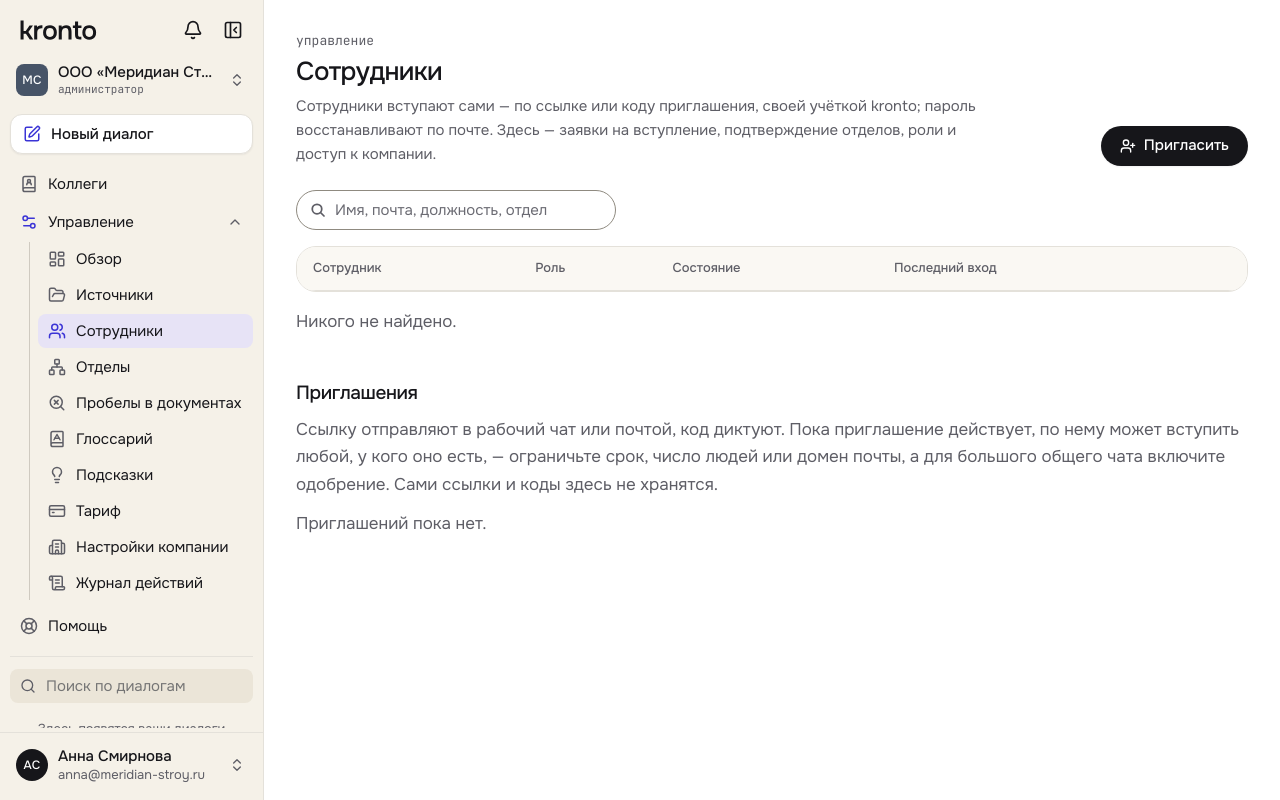
it: боковая панель › у администратора разделы управления раскрыты в панели, второй панели нет
Check: the heading "Сотрудники" is shown, box [296,55,442,88]
Check: the number of navigation bars is 1, box [10,166,253,644]
Step 1. Click the button named "Свернуть разделы управления" → (235, 222), box [219,206,251,238]
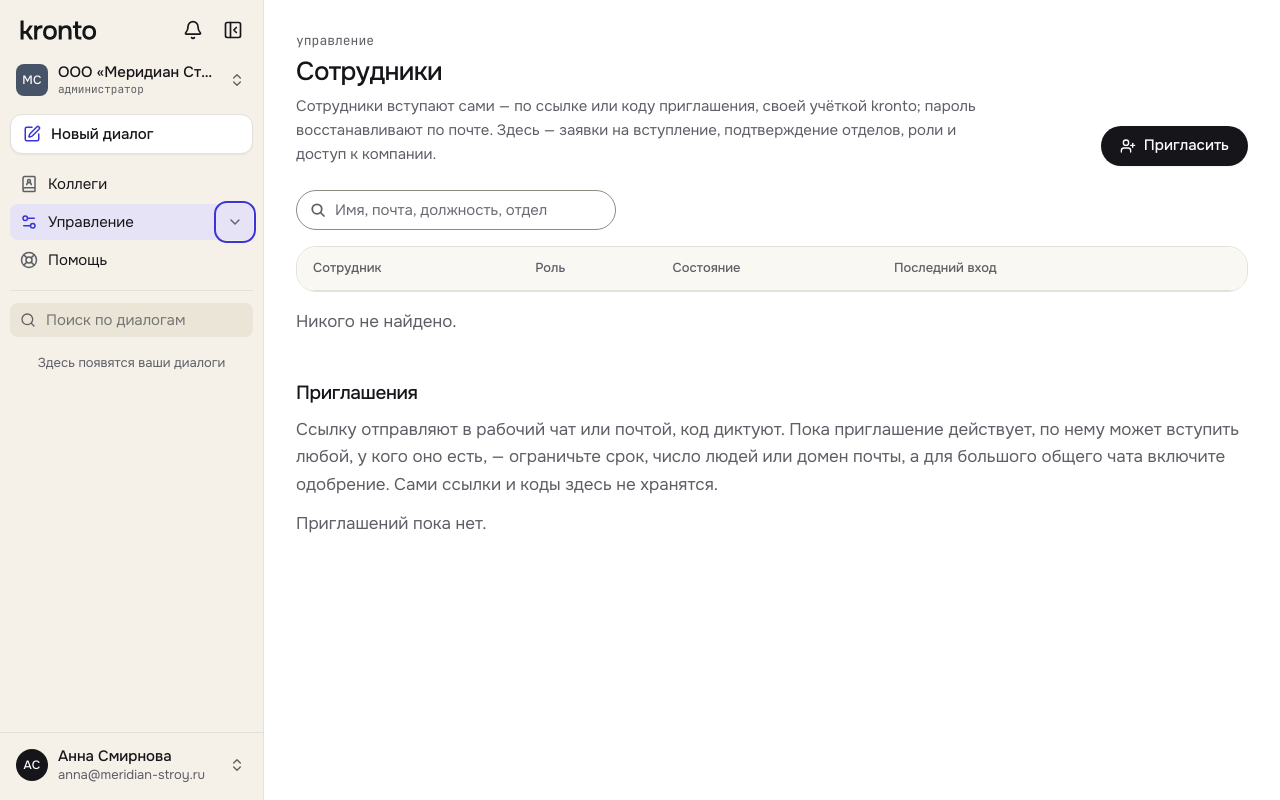
Step 2. Click the button named "Показать разделы управления" → (235, 222), box [219,206,251,238]
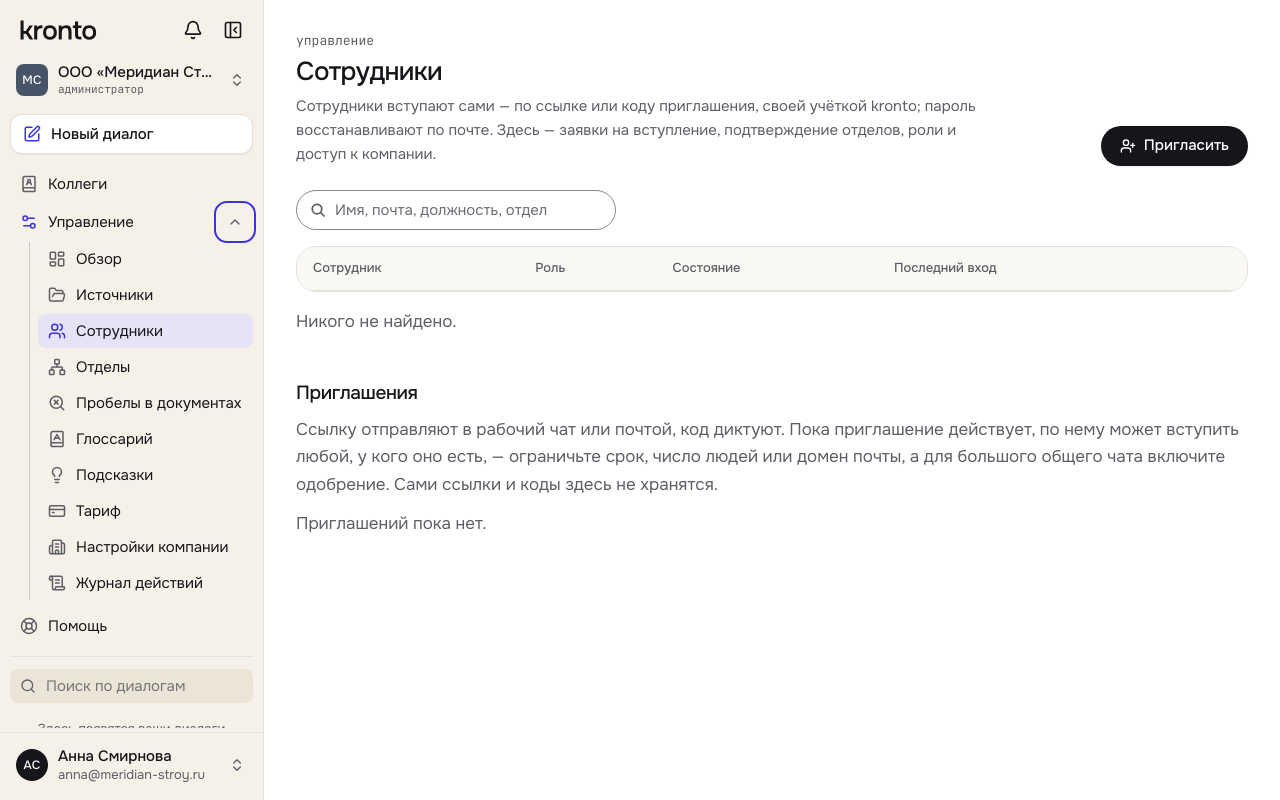
Check: the list named "Управление" is shown, box [29,242,253,600]
